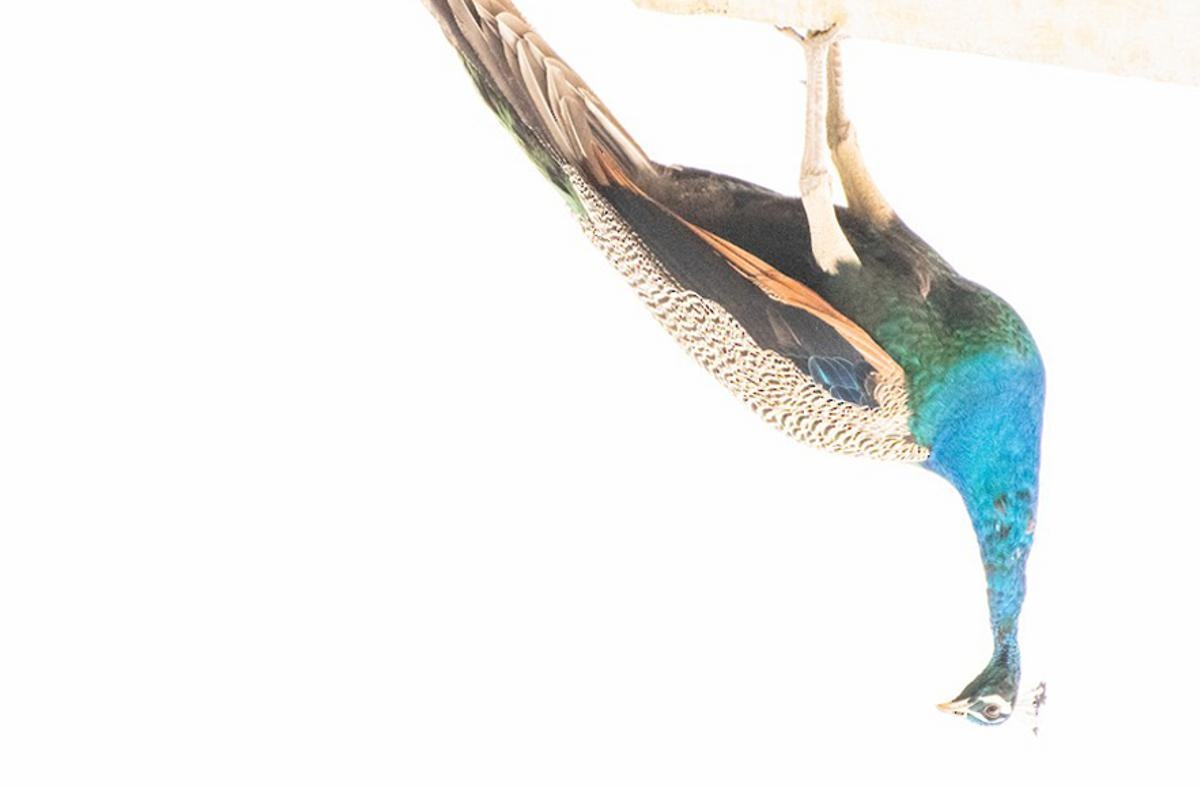peacock: (351, 1, 1079, 744)
